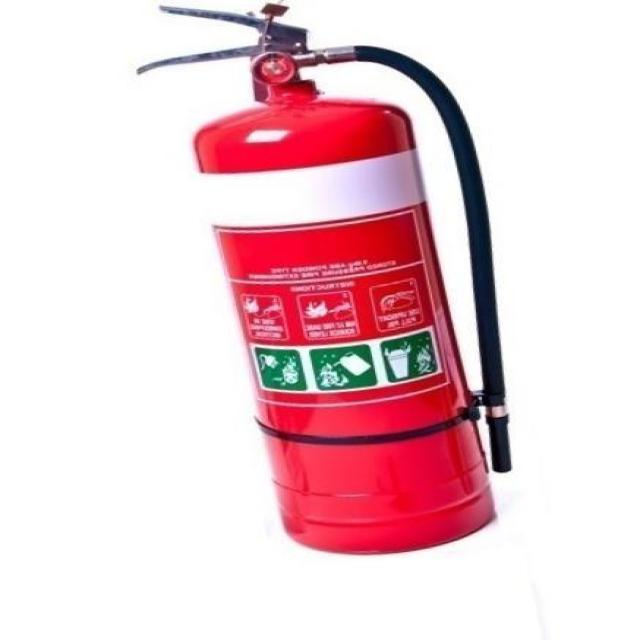fire_extinguisher: (124, 0, 519, 559)
